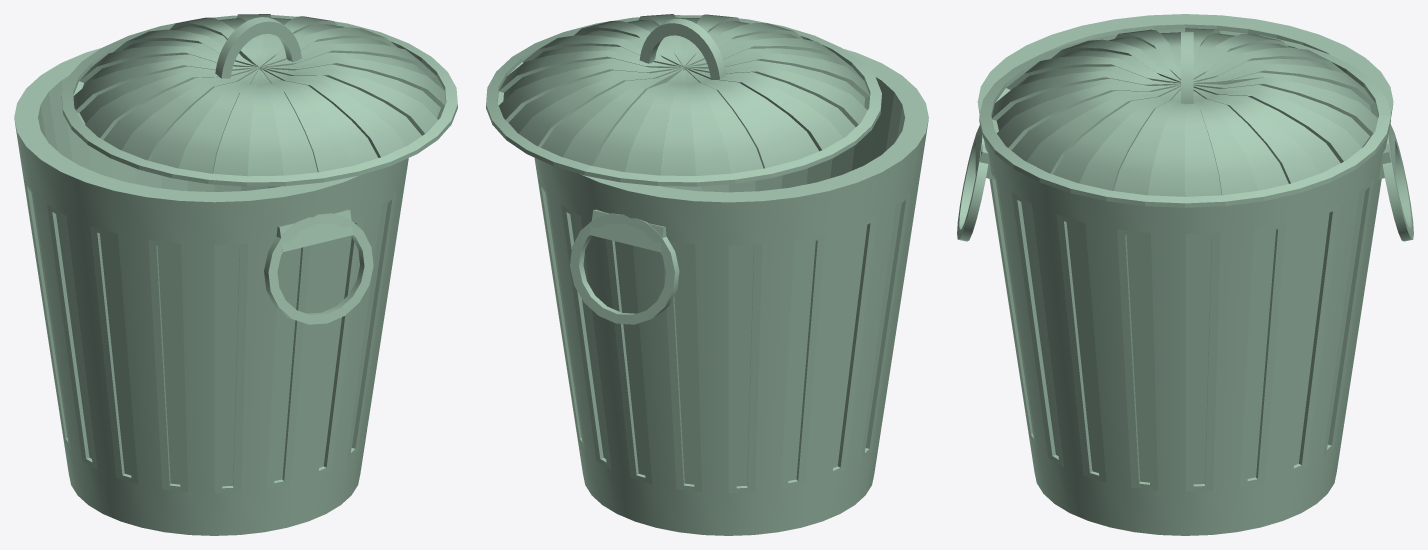
File: TrashCan_517.gltf
3 views of the same model, side by side, from view 1: azimuth 30°, elevation 25°; view 2: azimuth 150°, elevation 25°; view 3: azimuth 270°, elevation 25° (orthographic). The views are drawn at different scales.
Parts seen in each view (by area): view 1: node-0; view 2: node-0; view 3: node-0.
Boxes of the visible parts, x1,y1,x2,y2 form: node-0: [14, 14, 457, 535]; node-0: [486, 14, 928, 535]; node-0: [957, 14, 1413, 535].
Bounding box in the file's own units: 38 × 41.16 × 37.12.
